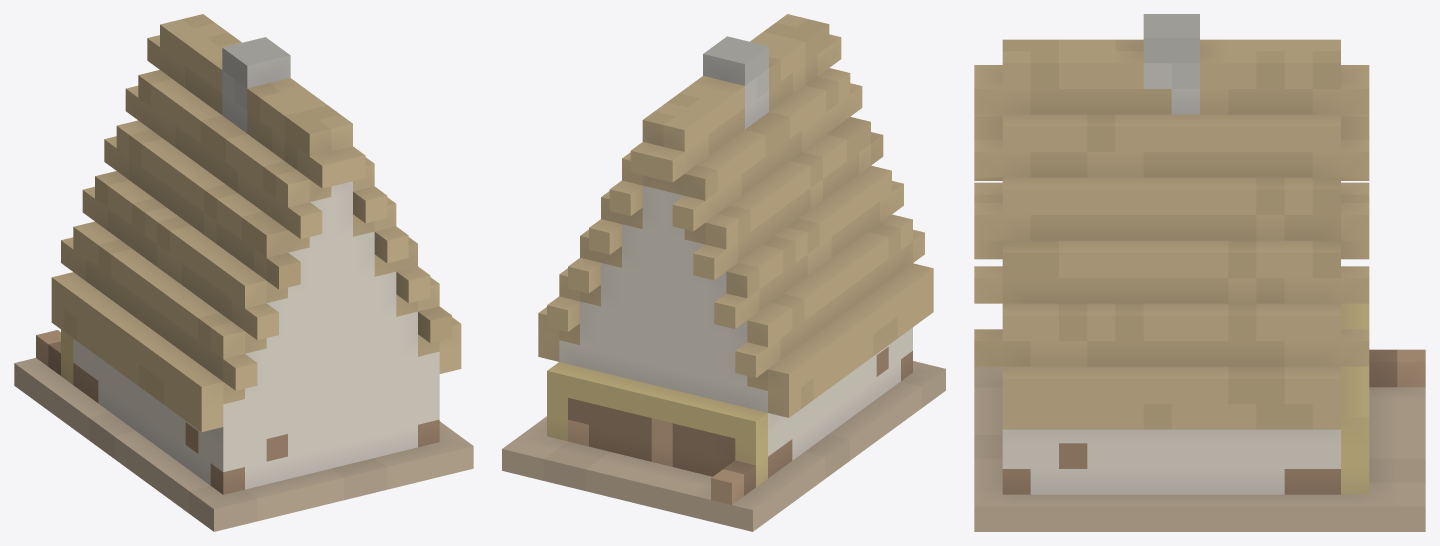
File: weaver_wool.lite.glb
3 renders of one model, left to right at view 1: azimuth 30°, elevation 25°; view 2: azimuth 150°, elevation 25°; view 3: azimuth 270°, elevation 25°, orthographic. The views are drawn at different scales.
Parts seen in each view (by area): view 1: weaver_wool; view 2: weaver_wool; view 3: weaver_wool.
Part boxes in pixels (bbox=[...]): weaver_wool: bbox=[14, 14, 473, 531]; weaver_wool: bbox=[502, 14, 945, 531]; weaver_wool: bbox=[974, 14, 1425, 531].
Size of the model in its own units: 3 by 4.25 by 4.
